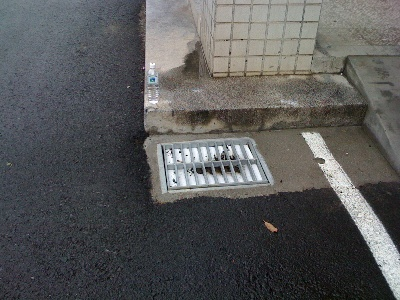bottle: (146, 62, 160, 106)
